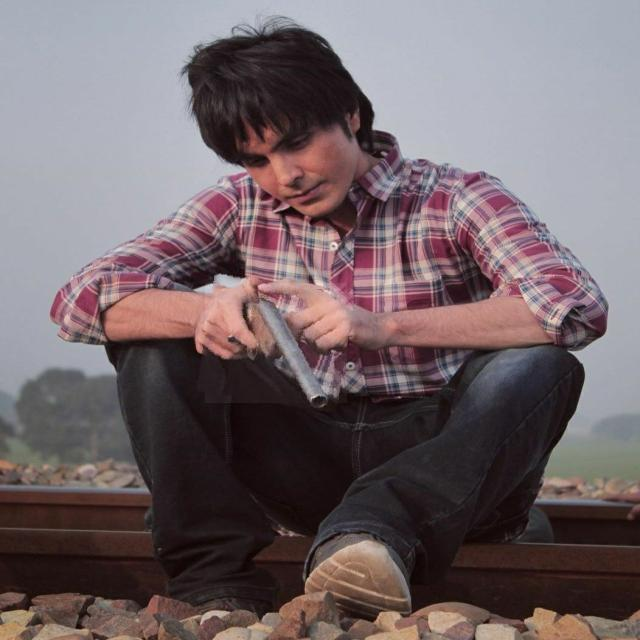Handgun: (201, 278, 351, 408)
